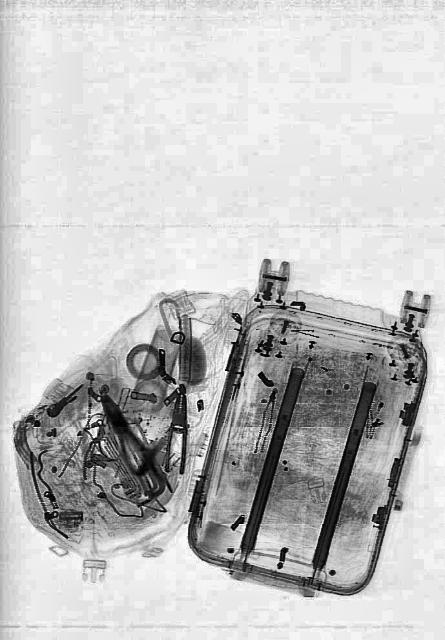Pliers: (92, 386, 170, 504), (164, 392, 190, 476)
